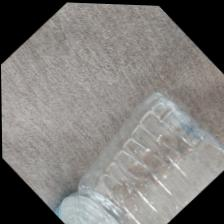plastic: (56, 92, 223, 223)
